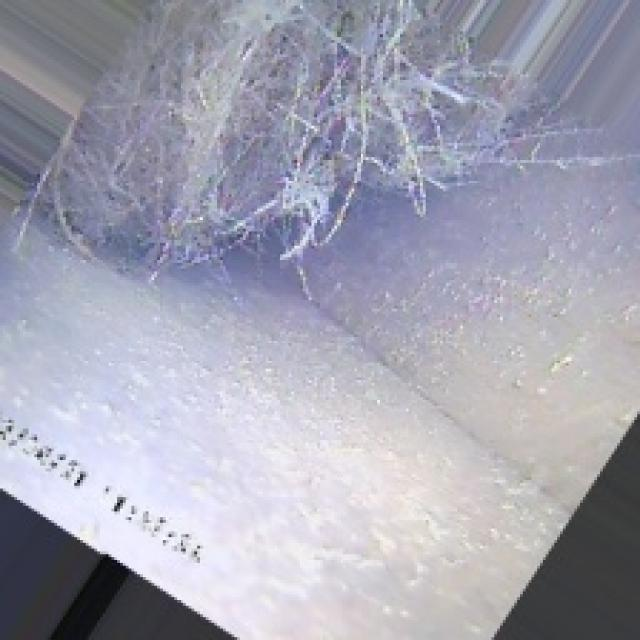Root_blockage: (117, 17, 500, 317)
